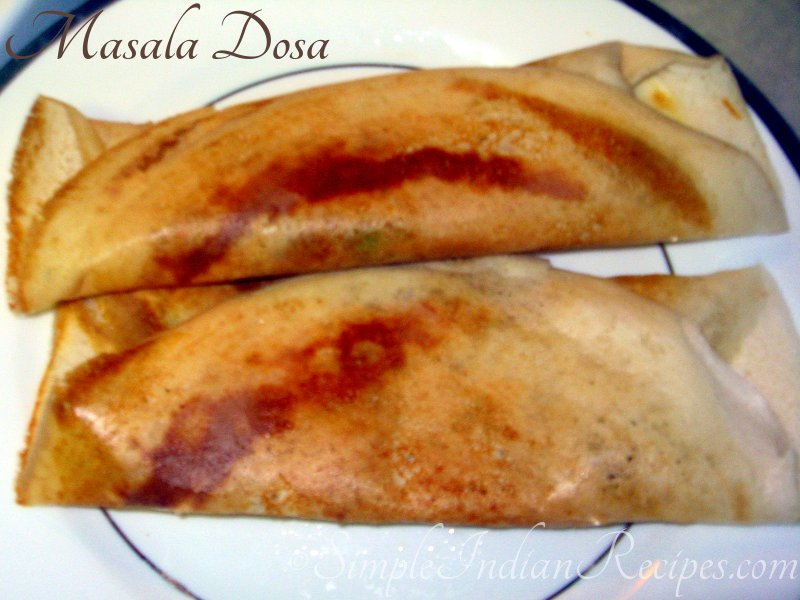dosa: (1, 40, 800, 528)
